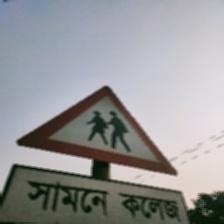College-in-front: (0, 80, 204, 224)
